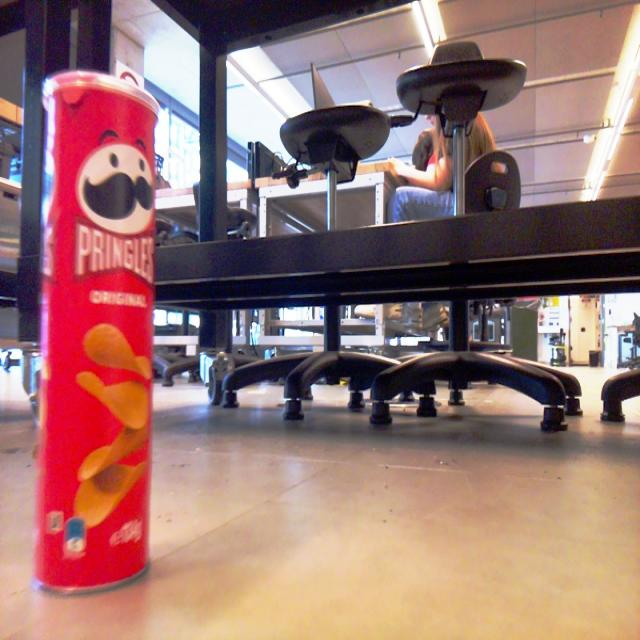redpringles: (24, 52, 177, 604)
